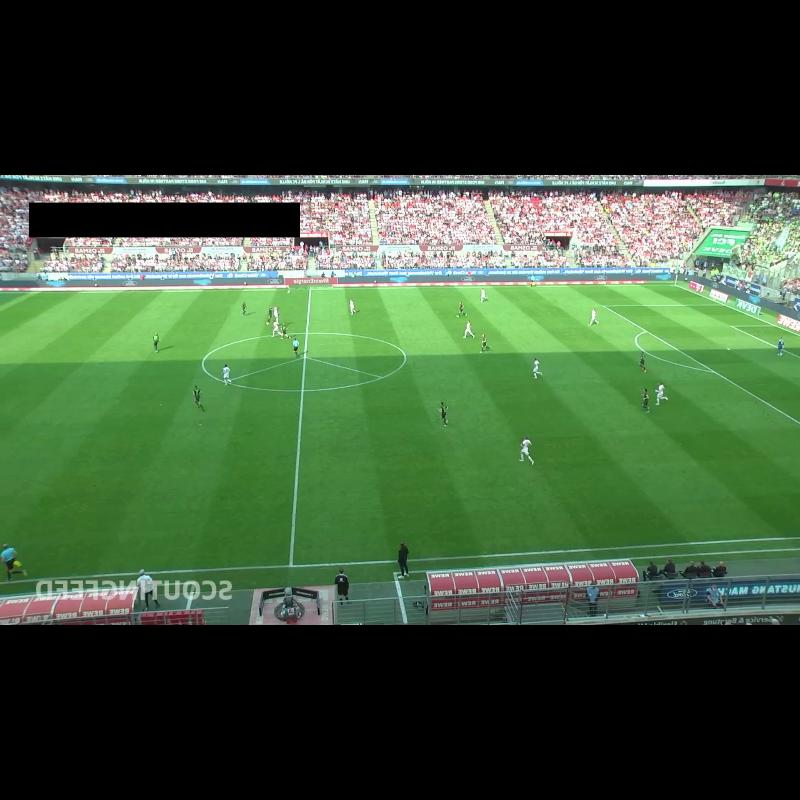cross_recipient_zone: (603, 304, 800, 423)
crossing_player_zone: (676, 434, 800, 538), (492, 284, 723, 307), (0, 292, 122, 321)
pitch: (0, 285, 800, 583)
